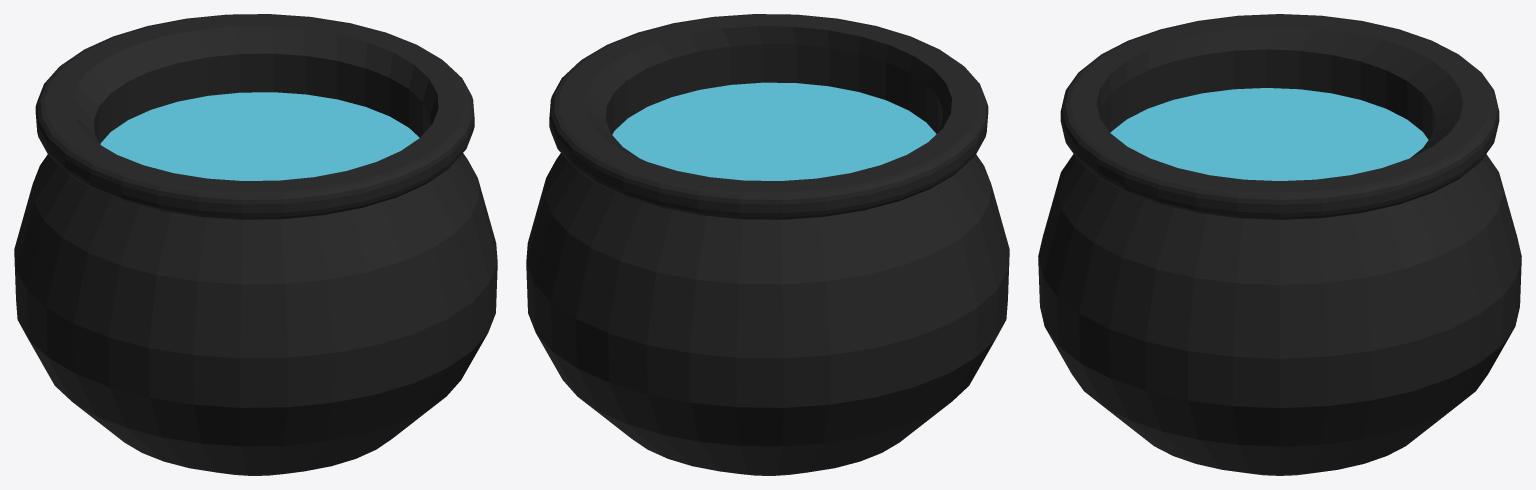
File: Cauldron.fbx
The picture shows the model from 3 angles, left to right: view 1: azimuth 30°, elevation 25°; view 2: azimuth 150°, elevation 25°; view 3: azimuth 270°, elevation 25°; orthographic projection.
Parts seen in each view (by area): view 1: Cylinder; view 2: Cylinder; view 3: Cylinder.
Boxes of the visible parts, box(x1,y1,x2,y2) form: Cylinder: box(14, 14, 497, 475); Cylinder: box(526, 14, 1009, 475); Cylinder: box(1038, 14, 1521, 475).
Size of the model in its own units: 261 by 200 by 261.
